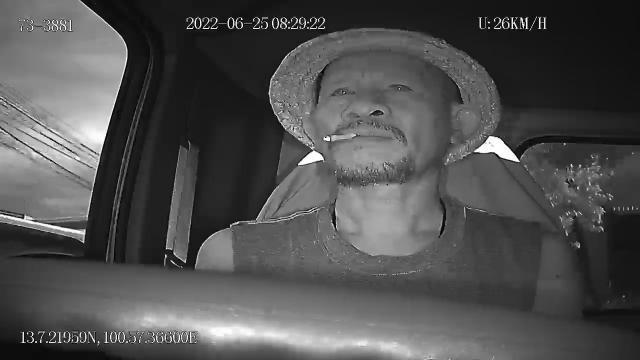SafeDriving: (324, 78, 362, 102), (380, 76, 418, 99)
Smoking: (324, 131, 358, 145)
